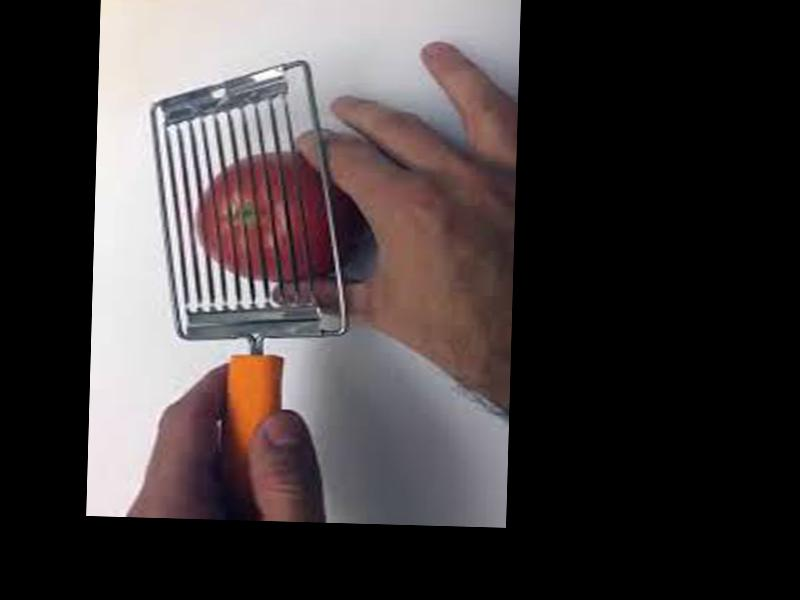Tomato: (195, 153, 359, 286)
